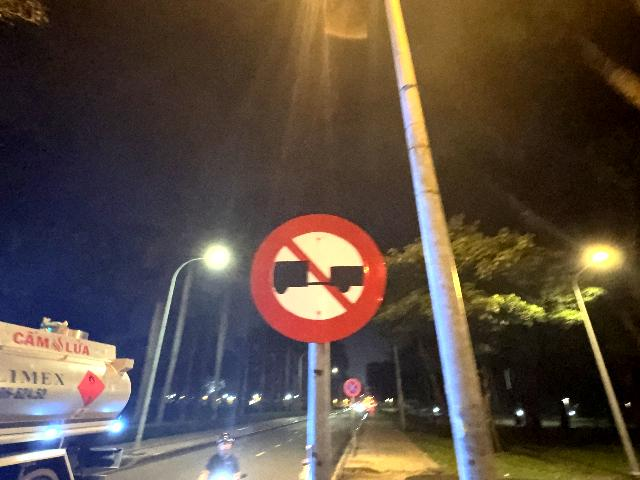cam-xe-somi-romooc: (250, 213, 389, 344)
